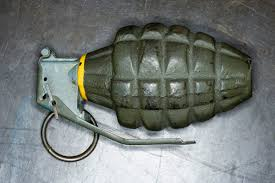bomb: (32, 24, 252, 160)
